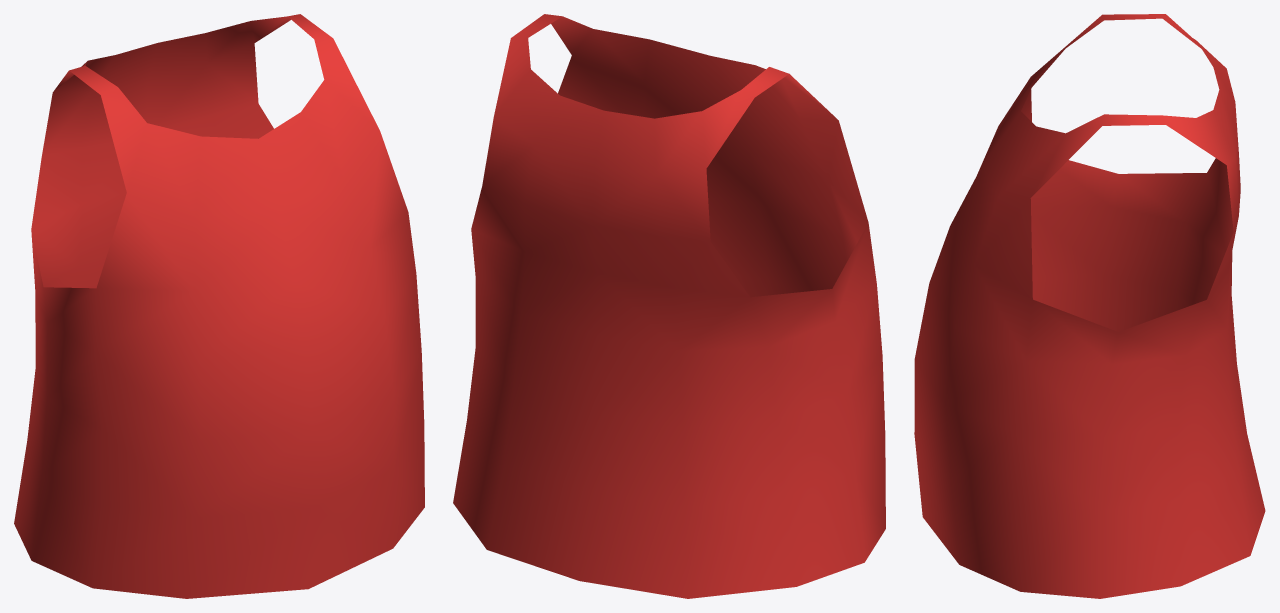
File: Outerwear_Red_008.glb
The picture shows the model from 3 angles, left to right: view 1: azimuth 30°, elevation 25°; view 2: azimuth 150°, elevation 25°; view 3: azimuth 270°, elevation 25°; orthographic projection. The views are drawn at different scales.
Parts seen in each view (by area): view 1: Outerwear_Red_008; view 2: Outerwear_Red_008; view 3: Outerwear_Red_008.
Boxes of the visible parts, <box> form: Outerwear_Red_008: <box>14,14,424,598</box>; Outerwear_Red_008: <box>453,14,885,598</box>; Outerwear_Red_008: <box>914,14,1265,598</box>.
Bounding box in the file's own units: 0.4419 × 0.519 × 0.3668.
1 material, 1 textured.
